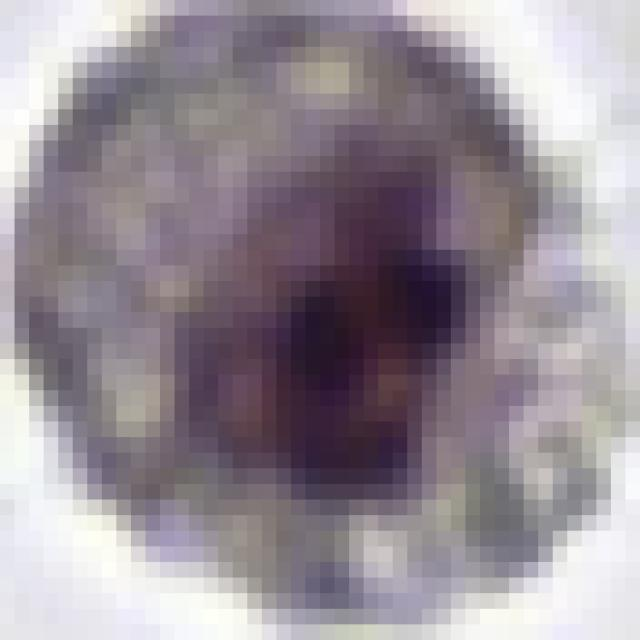nucleus: (209, 176, 552, 528)
